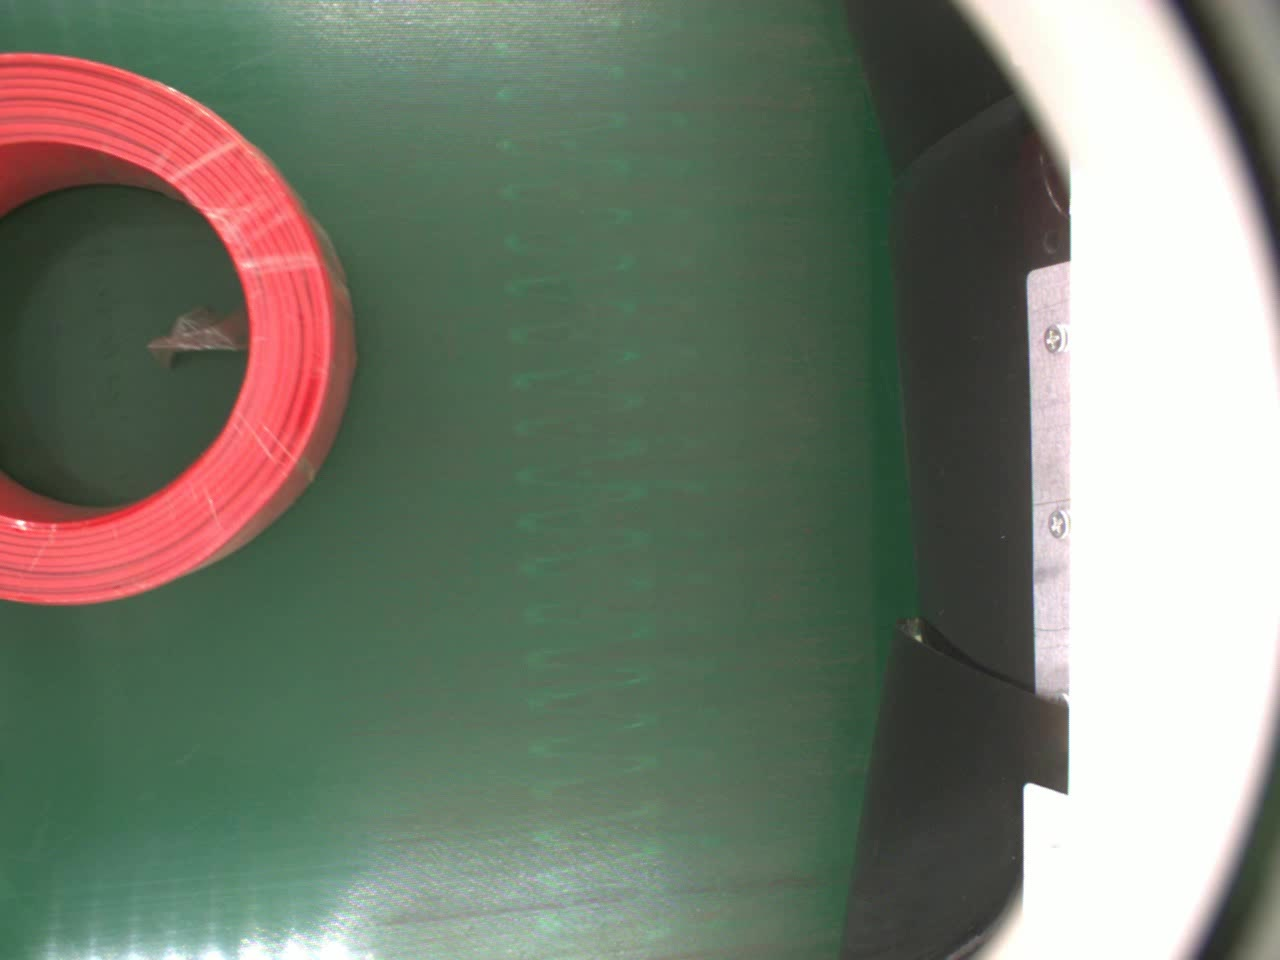red: (0, 49, 359, 607)
